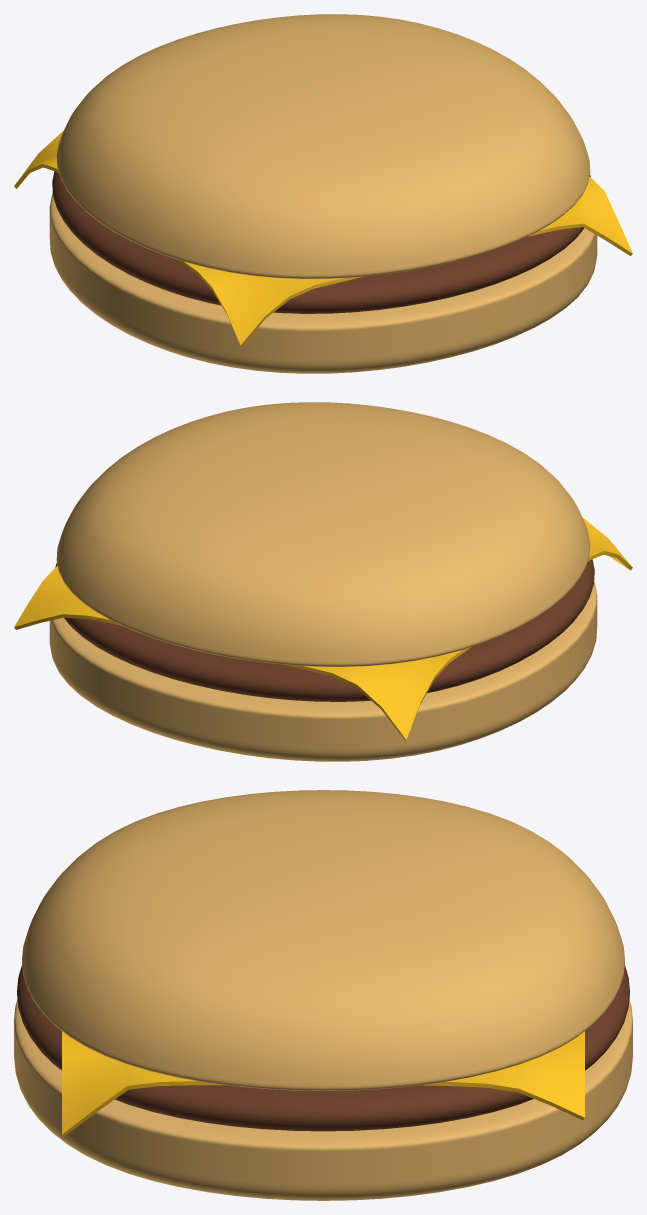
The model's file is hamburger.glb.
The picture shows the model from 3 angles, top to bottom: view 1: azimuth 30°, elevation 25°; view 2: azimuth 150°, elevation 25°; view 3: azimuth 270°, elevation 25°; orthographic projection. The views are drawn at different scales.
Visible parts, largest first — view 1: Cube.003, Cube, Cube.001, Plane; view 2: Cube.003, Cube, Cube.001, Plane; view 3: Cube.003, Cube, Cube.001, Plane.
Part boxes in pixels (x1,y1,x2,y2): Cube.003: [56, 14, 590, 278]; Cube: [49, 193, 597, 373]; Cube.001: [52, 171, 590, 313]; Plane: [14, 131, 632, 346]; Cube.003: [56, 402, 590, 666]; Cube: [49, 581, 597, 761]; Cube.001: [55, 559, 594, 701]; Plane: [14, 518, 632, 741]; Cube.003: [22, 790, 624, 1090]; Cube: [14, 999, 632, 1200]; Cube.001: [17, 964, 629, 1131]; Plane: [62, 1031, 584, 1136].
Bounding box in the file's own units: 11.03 × 4.59 × 11.03.
